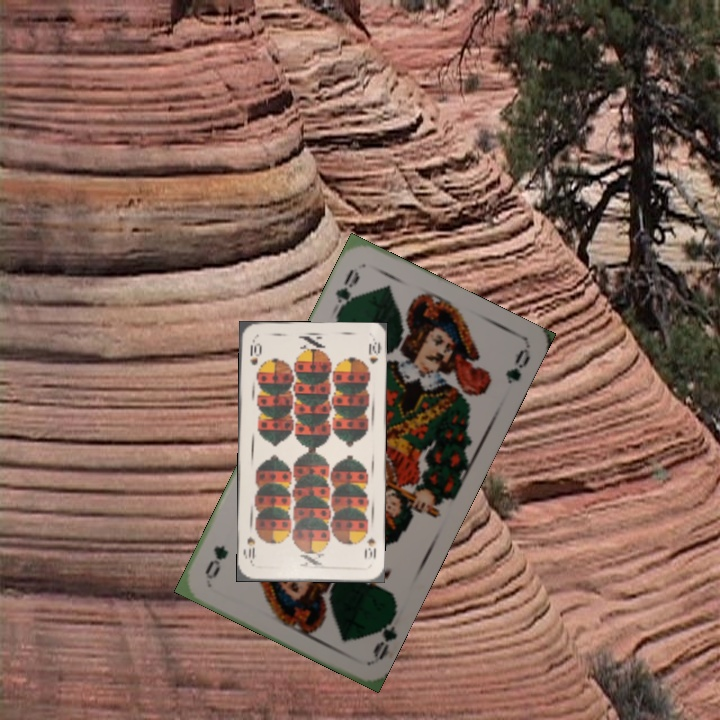GO: (368, 606, 400, 664), (331, 264, 363, 320)
S10: (361, 533, 378, 562), (246, 336, 261, 367)
